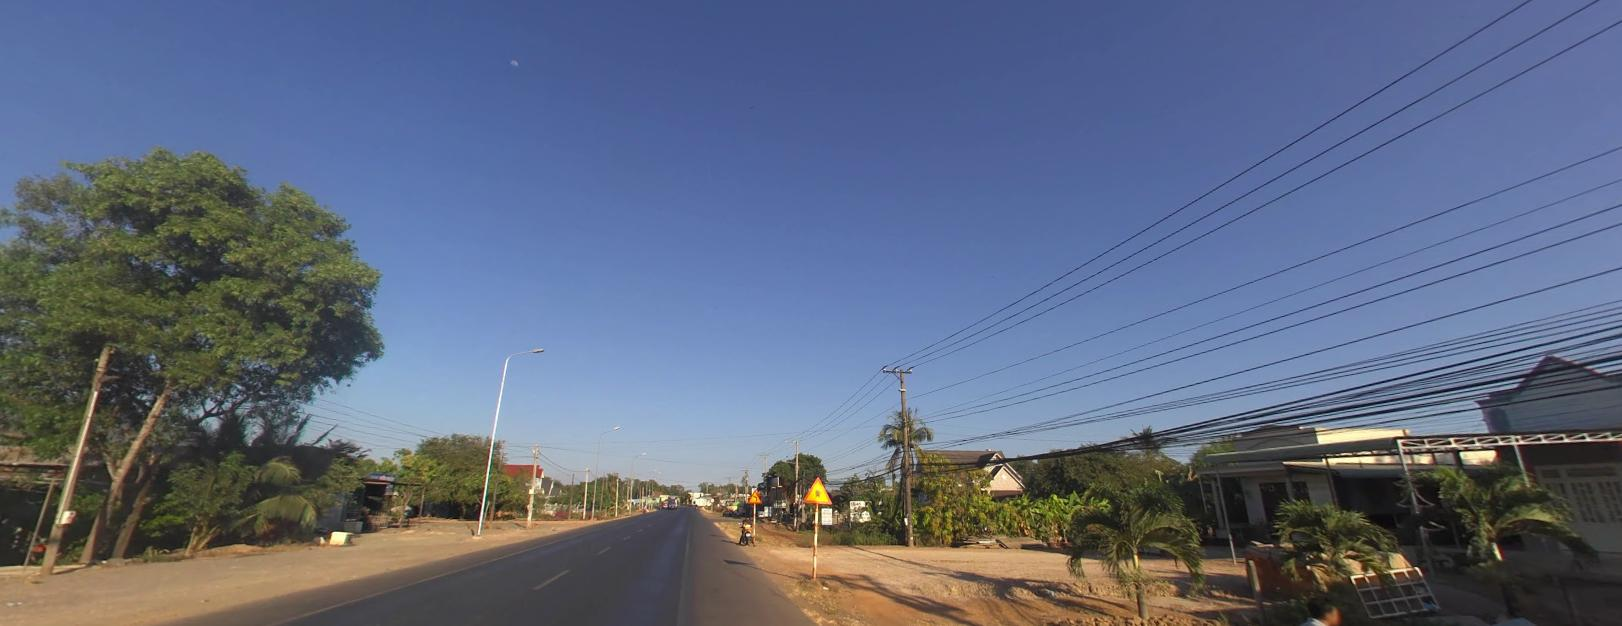Nguy hiem: (803, 473, 833, 505), (746, 488, 762, 503)
